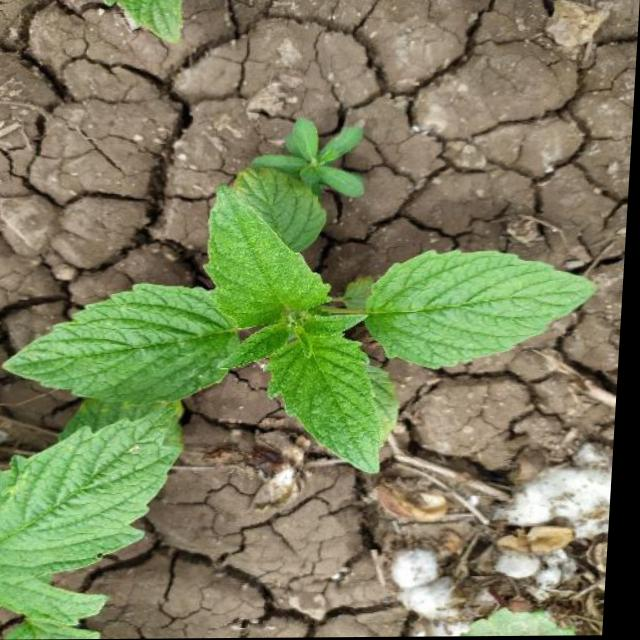crop: (0, 109, 625, 475)
